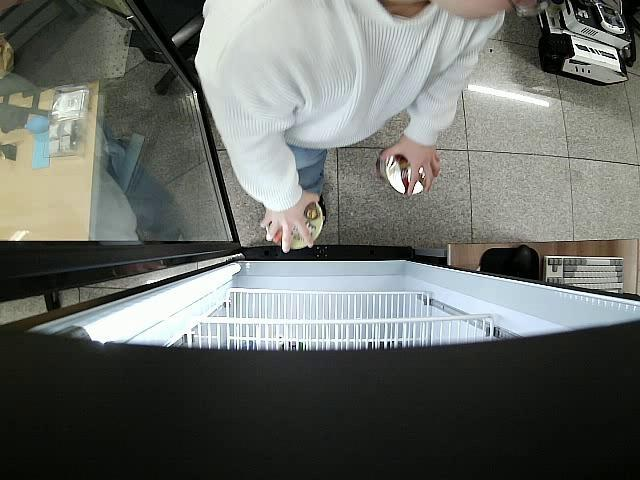03_chapagetti_L: (266, 202, 326, 250), (376, 150, 433, 196)
